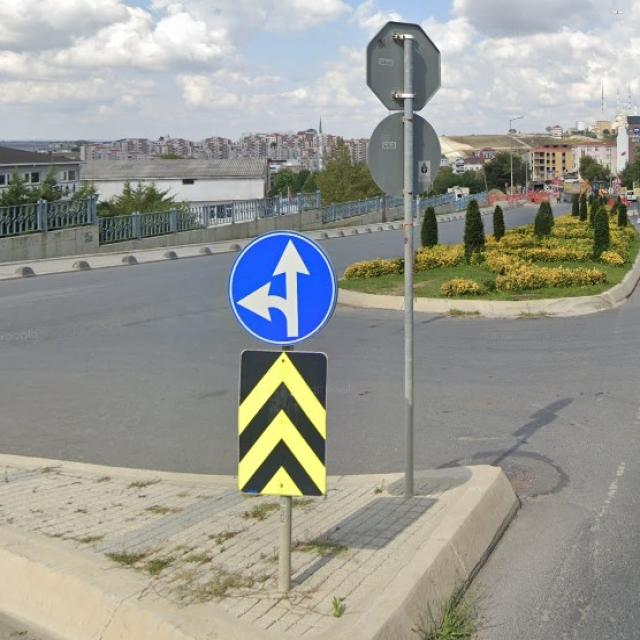ilerisol: (228, 231, 336, 344)
